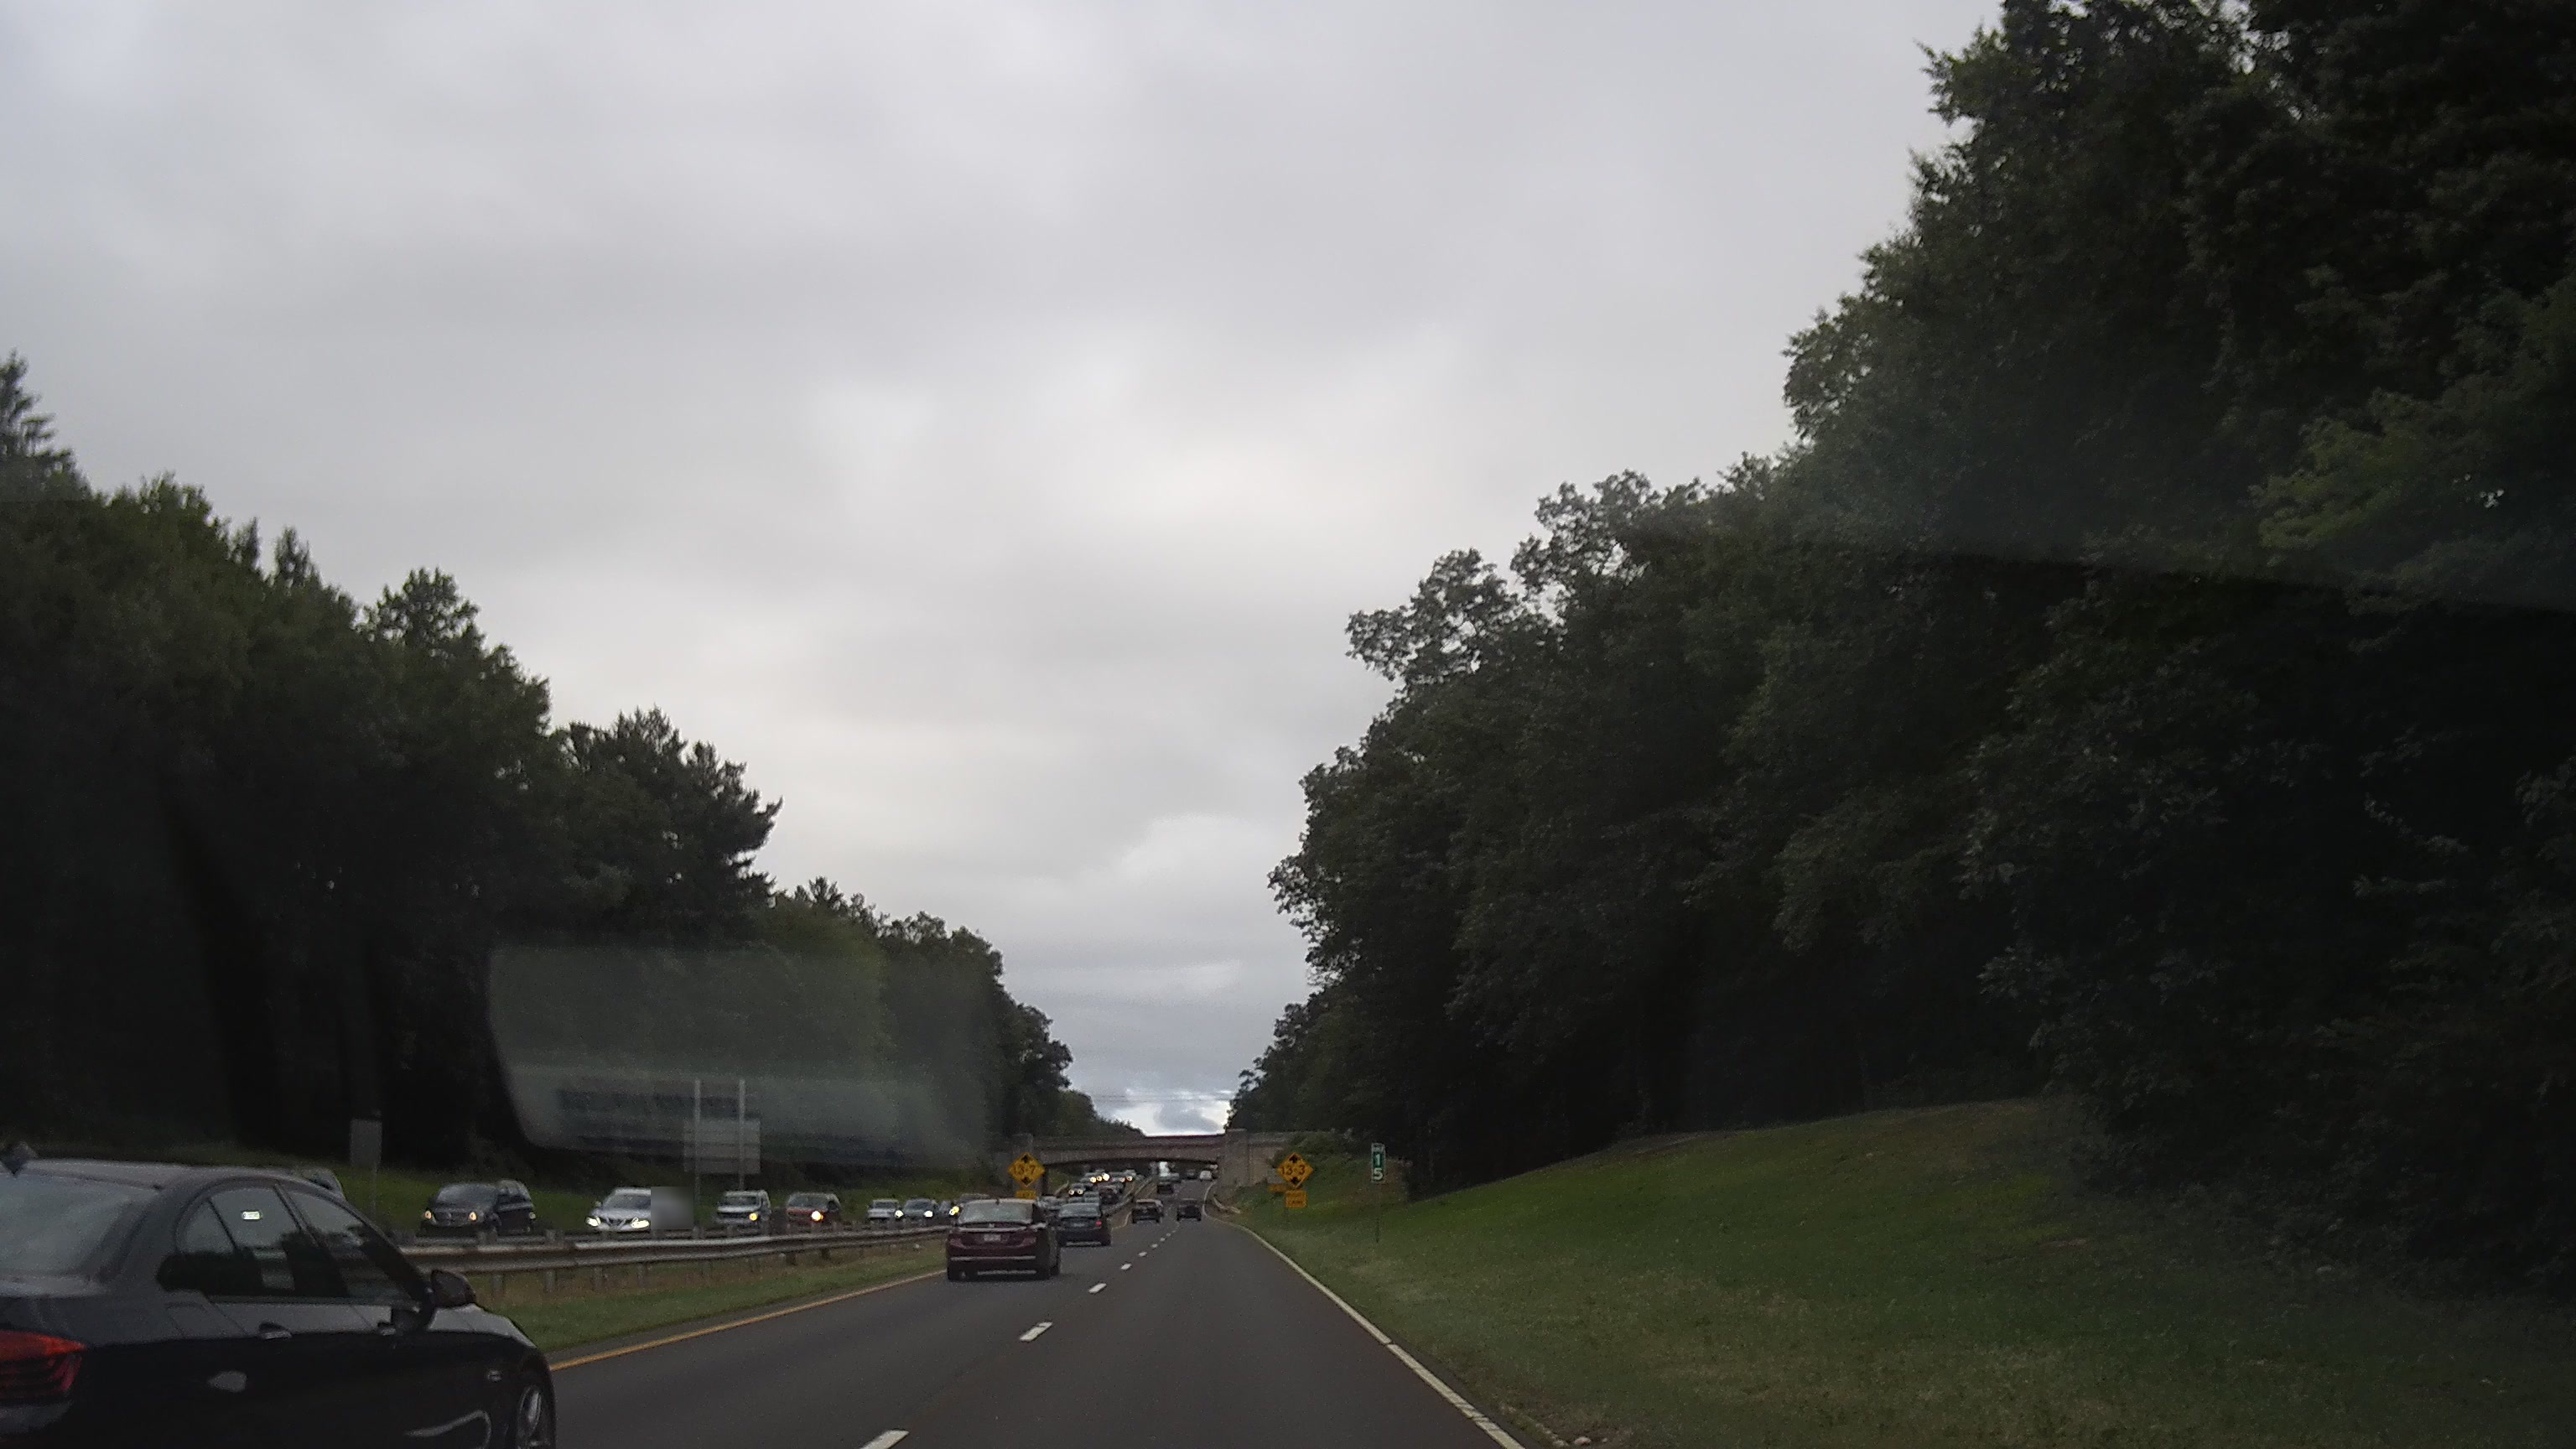low-clearance-sign: (1276, 1152, 1315, 1191), (1007, 1152, 1046, 1189)
